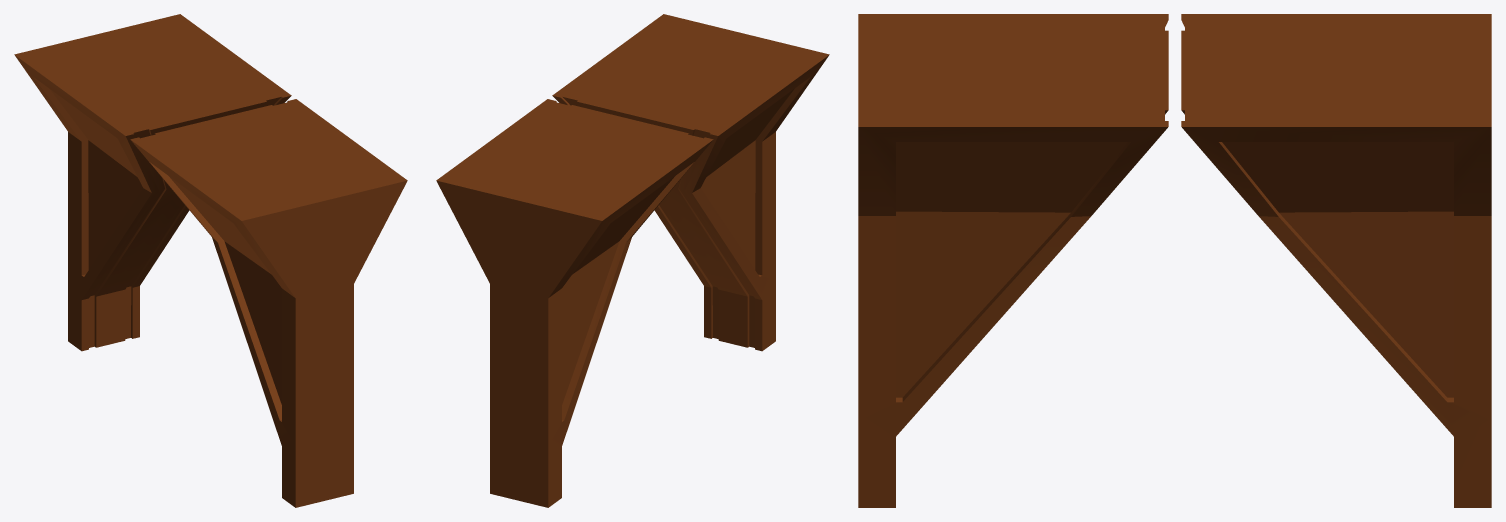
The model's file is Pillar_Blockout_01.fbx.
3 views of the same model, side by side, from view 1: azimuth 30°, elevation 25°; view 2: azimuth 150°, elevation 25°; view 3: azimuth 270°, elevation 25° (orthographic). The views are drawn at different scales.
Visible parts, largest first — view 1: Pillar_Blockout_01; view 2: Pillar_Blockout_01; view 3: Pillar_Blockout_01.
Part boxes in pixels (<box>): Pillar_Blockout_01: <box>14,14,407,507</box>; Pillar_Blockout_01: <box>436,14,829,507</box>; Pillar_Blockout_01: <box>858,14,1491,507</box>.
Size of the model in its own units: 446 by 769 by 1057.
